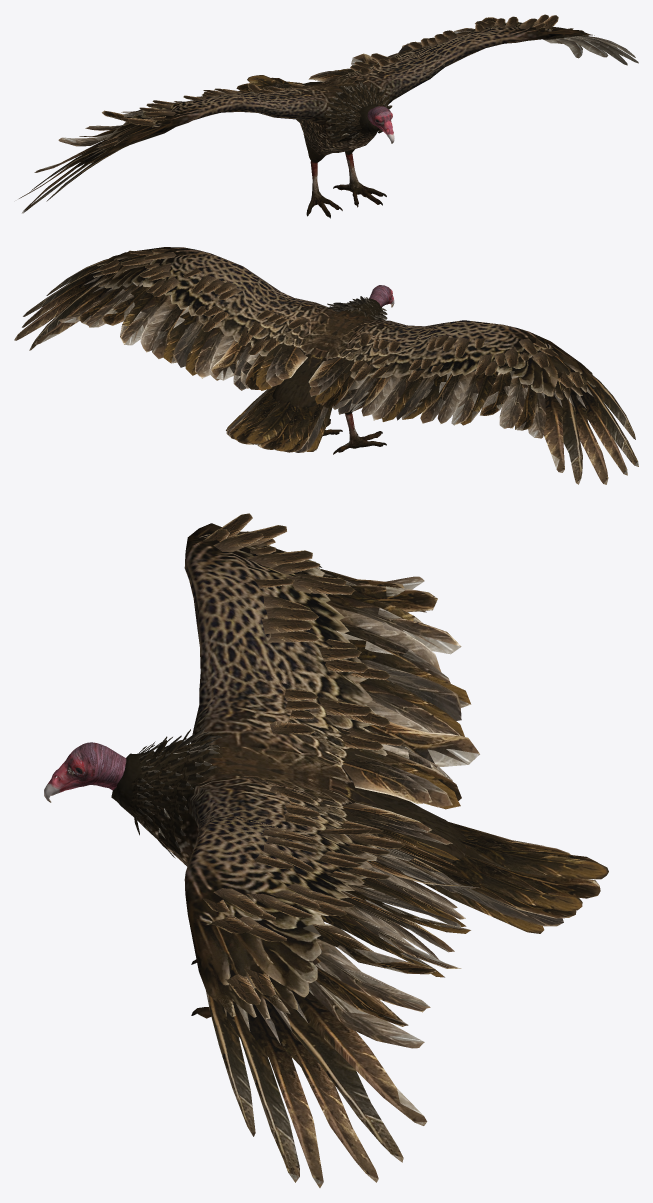
The model's file is vulture.glb.
3 views of the same model, one above another, from view 1: azimuth 30°, elevation 25°; view 2: azimuth 150°, elevation 25°; view 3: azimuth 270°, elevation 25° (orthographic). The views are drawn at different scales.
Parts seen in each view (by area): view 1: sm_2_0_0_1, sm_1_0_0_0; view 2: sm_2_0_0_1, sm_1_0_0_0; view 3: sm_2_0_0_1, sm_1_0_0_0.
Boxes of the visible parts, left/top/right/bottom form: sm_2_0_0_1: left=19, top=14, right=638, bottom=218; sm_1_0_0_0: left=367, top=106, right=394, bottom=143; sm_2_0_0_1: left=14, top=247, right=638, bottom=484; sm_1_0_0_0: left=369, top=285, right=394, bottom=307; sm_2_0_0_1: left=111, top=513, right=608, bottom=1187; sm_1_0_0_0: left=44, top=742, right=126, bottom=802.
Size of the model in its own units: 1.77 by 0.3907 by 0.7037.
Materials: 2 (2 with a texture image).
